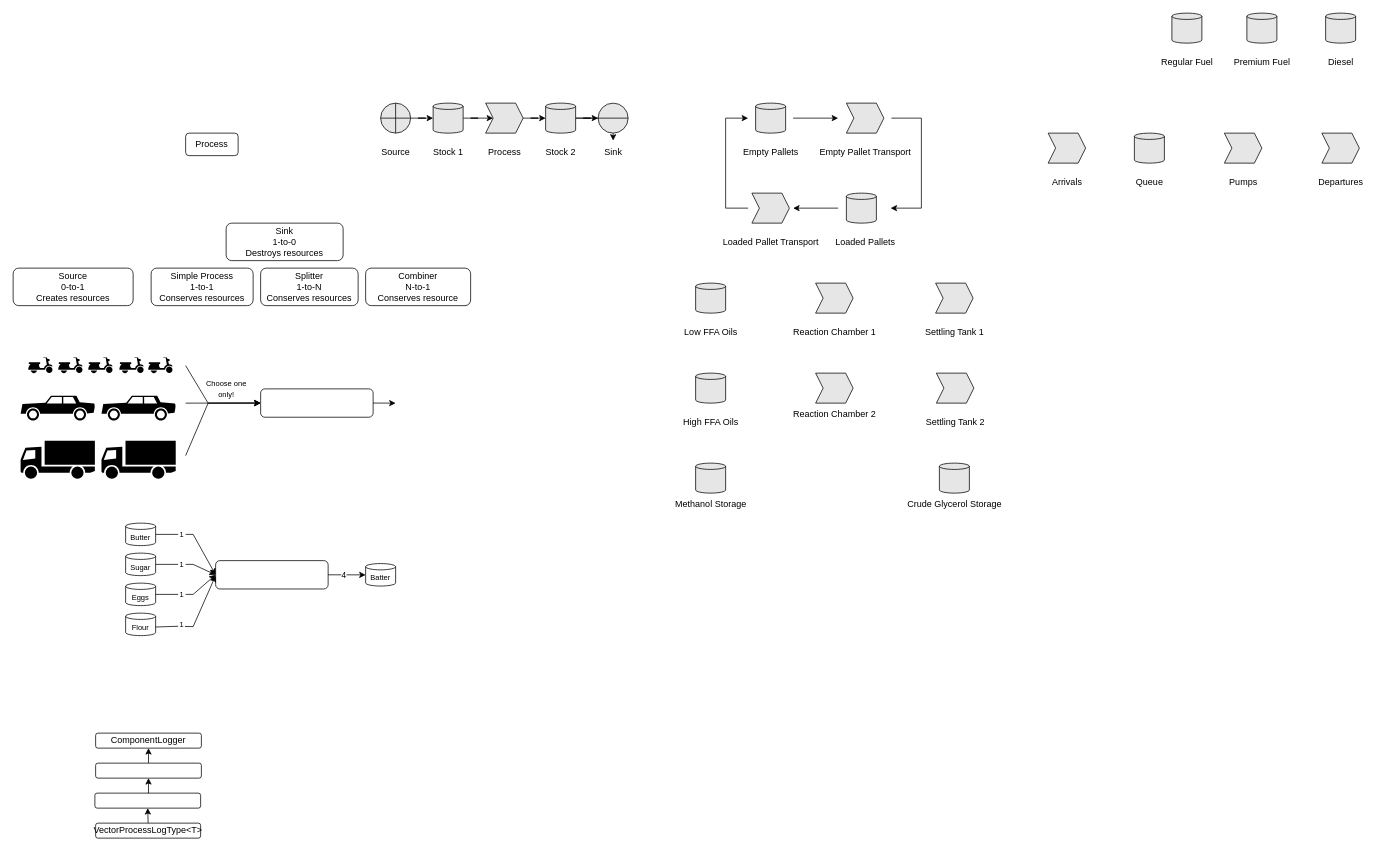
The diagram is 1384 pixels wide and 851 high, and some of its shapes have lost their labels. Here are the shapes that lost their labels. From the top down, the centre of each, then its label:
At point (316, 402): "Selecting a vehicle XOR-like Combiner Process".
At point (271, 574): "Mixing ingredients AND-like Combiner Process".
At point (148, 770): "VectorProcessLogger<T>".
At point (147, 800): "VectorProcessLog<T>".
